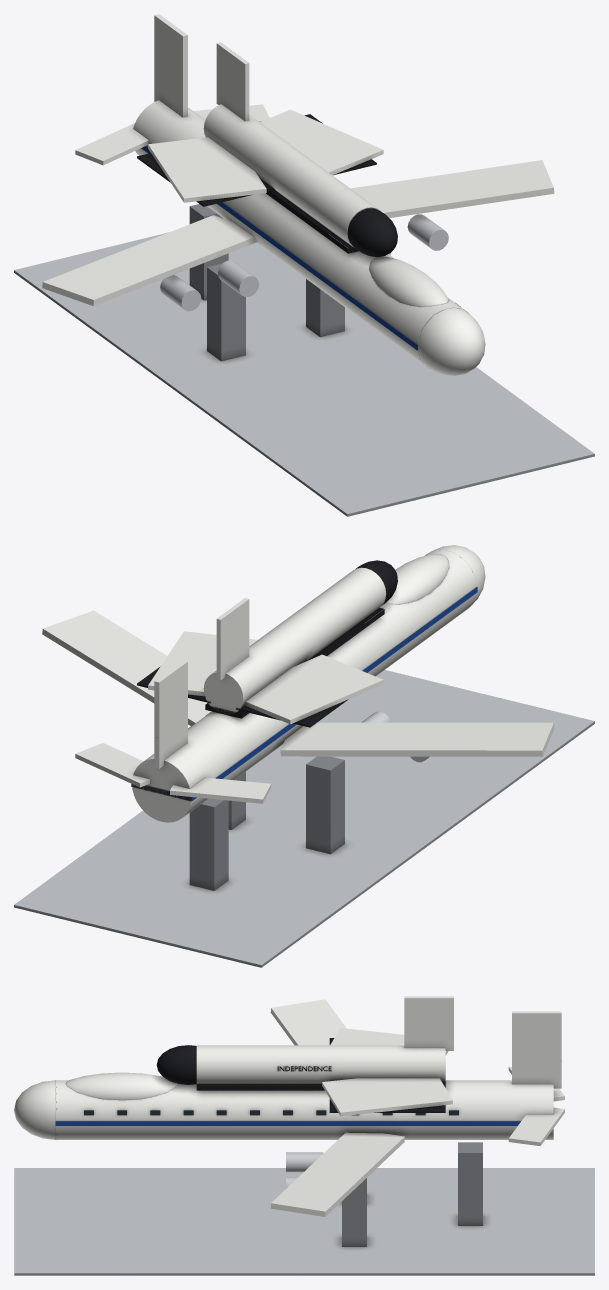
Rendered from independence_plaza.glb.
3 views of the same model, one above another, from view 1: azimuth 30°, elevation 25°; view 2: azimuth 150°, elevation 25°; view 3: azimuth 270°, elevation 25° (orthographic). The views are drawn at different scales.
Visible parts, largest first — view 1: independence_plaza; view 2: independence_plaza; view 3: independence_plaza.
Part boxes in pixels (left/top/right/bottom): independence_plaza: left=14, top=14, right=594, bottom=516; independence_plaza: left=14, top=545, right=594, bottom=967; independence_plaza: left=14, top=996, right=594, bottom=1275.
Bounding box in the file's own units: 60.67 × 30 × 70.04.
1 material, 1 textured.
